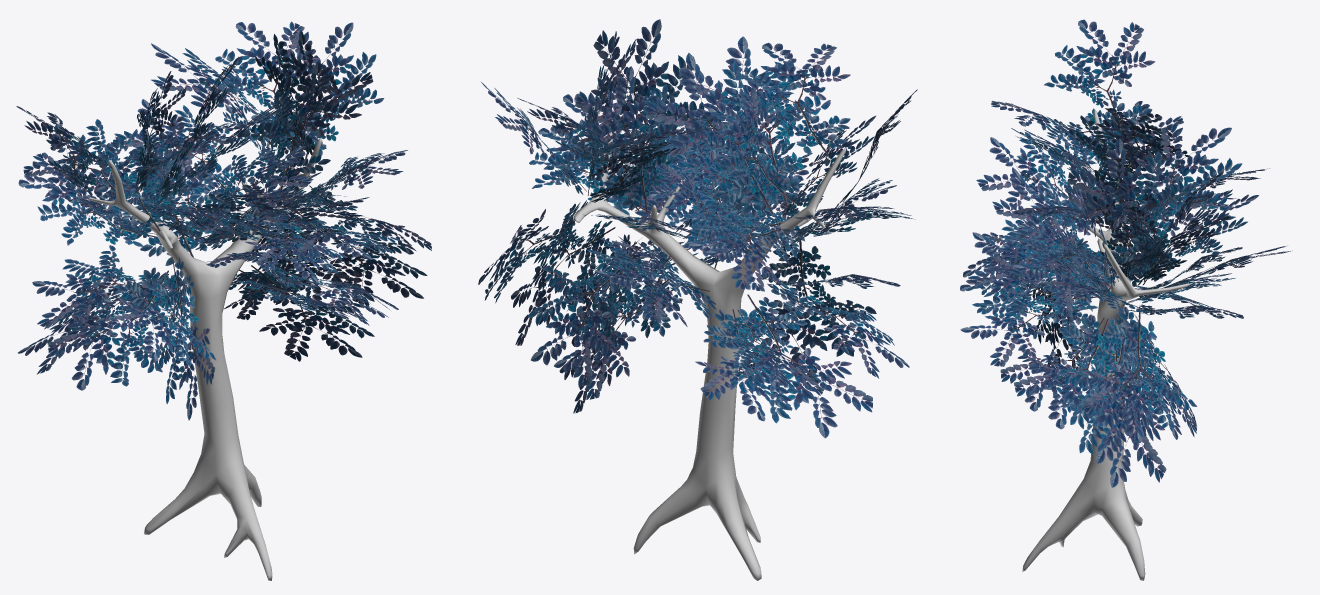
The model's file is Tree03_Foliage.fbx.
The picture shows the model from 3 angles, left to right: view 1: azimuth 30°, elevation 25°; view 2: azimuth 150°, elevation 25°; view 3: azimuth 270°, elevation 25°; orthographic projection. The views are drawn at different scales.
Parts seen in each view (by area): view 1: Plane.011; view 2: Plane.011; view 3: Plane.011.
Boxes of the visible parts, x1=… form: Plane.011: x1=16, y1=21, x2=431, y2=580; Plane.011: x1=478, y1=19, x2=917, y2=580; Plane.011: x1=960, y1=19, x2=1292, y2=580.
Size of the model in its own units: 723 by 855 by 577.
